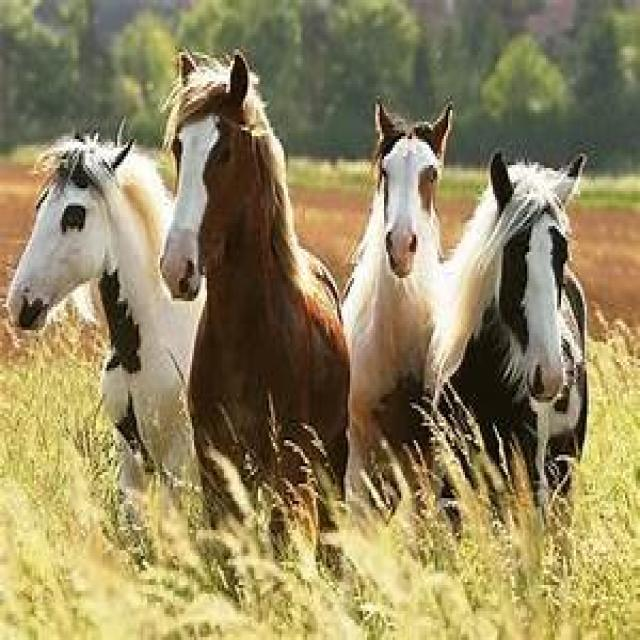horse: (160, 52, 352, 530), (6, 136, 207, 501), (412, 156, 589, 539), (341, 104, 461, 518)
